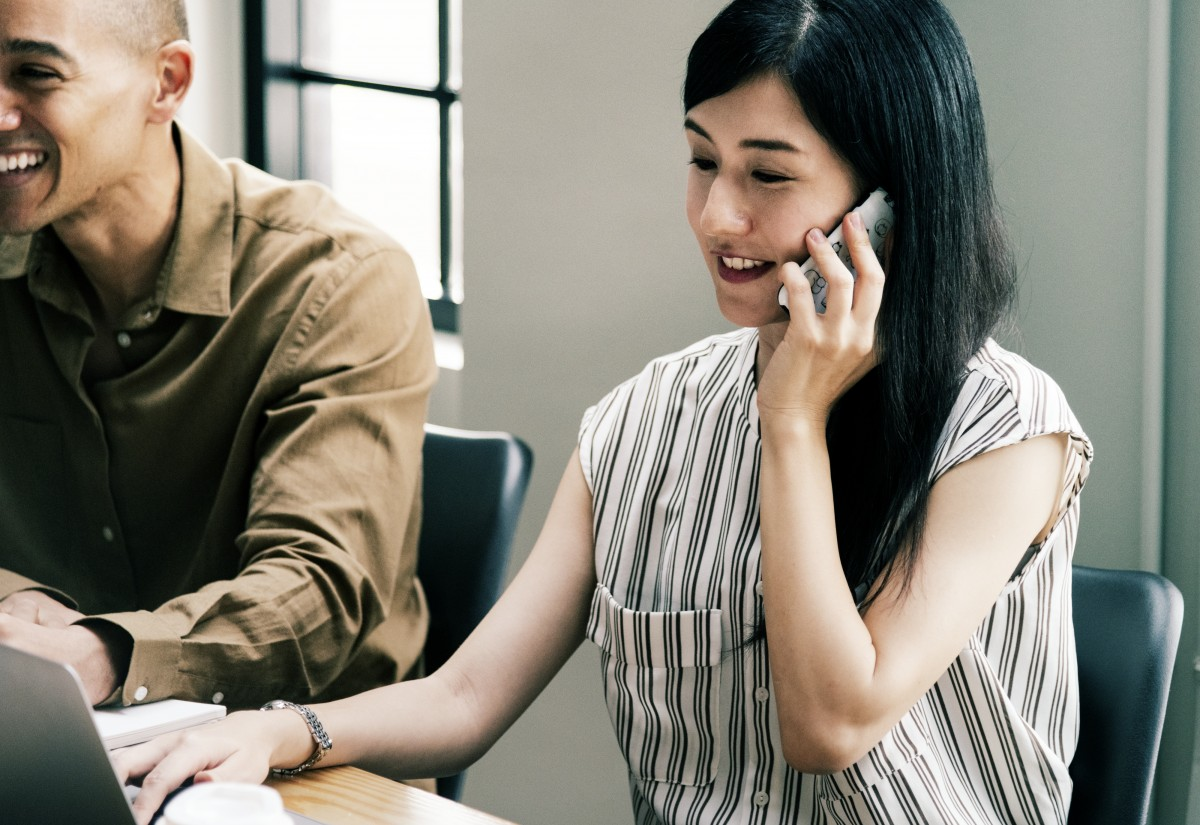phone: (783, 188, 909, 360)
talk: (672, 107, 921, 409)
